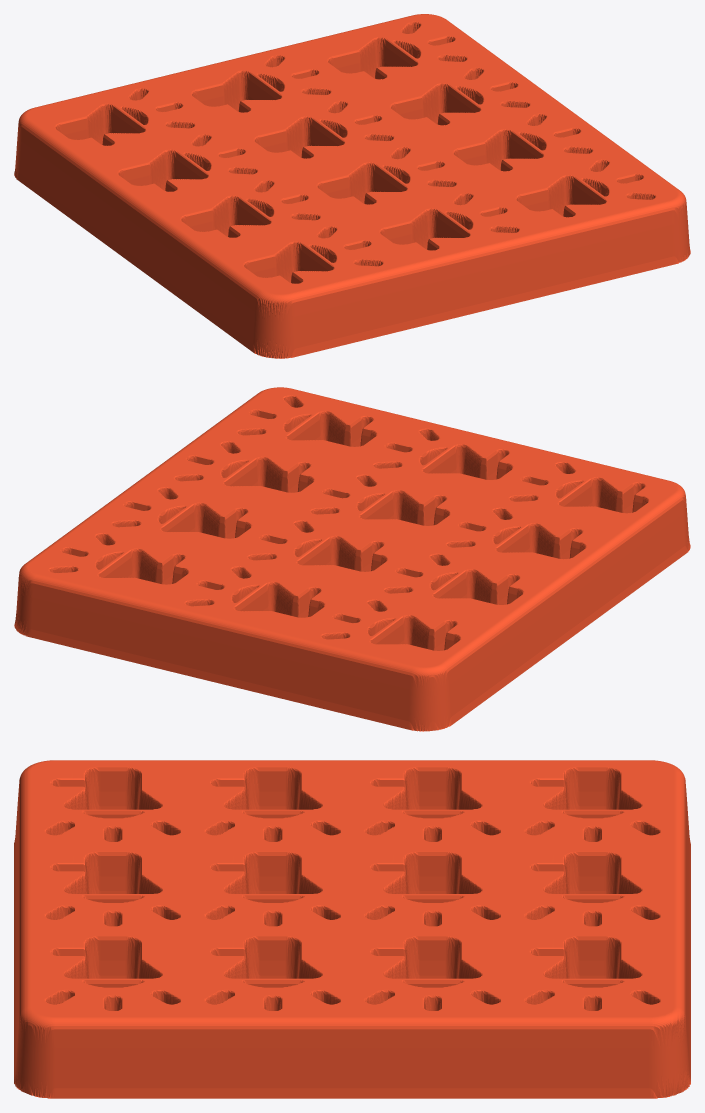
The model's file is mold.glb.
The picture shows the model from 3 angles, top to bottom: view 1: azimuth 30°, elevation 25°; view 2: azimuth 150°, elevation 25°; view 3: azimuth 270°, elevation 25°; orthographic projection. The views are drawn at different scales.
Visible parts, largest first — view 1: geometry_0; view 2: geometry_0; view 3: geometry_0.
Part boxes in pixels (x1,y1,x2,y2): geometry_0: [14, 14, 690, 358]; geometry_0: [14, 387, 690, 731]; geometry_0: [14, 760, 690, 1098].
Bounding box in the file's own units: 0.141 × 0.0182 × 0.1496.
